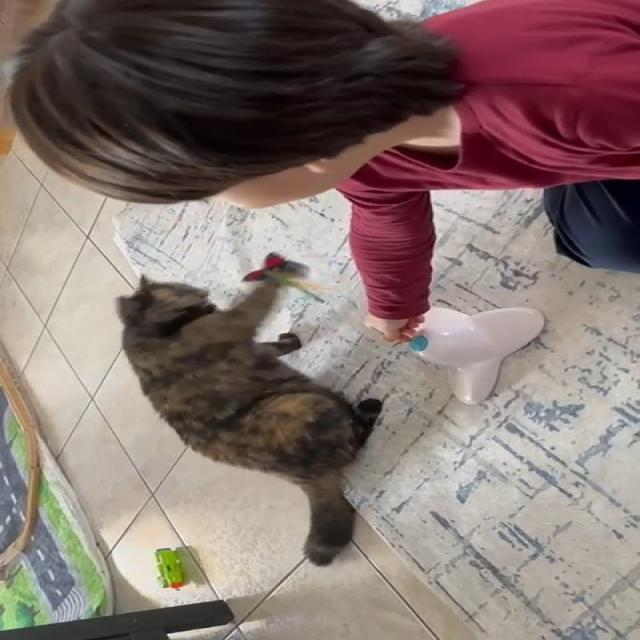authorized: (115, 272, 384, 566)
